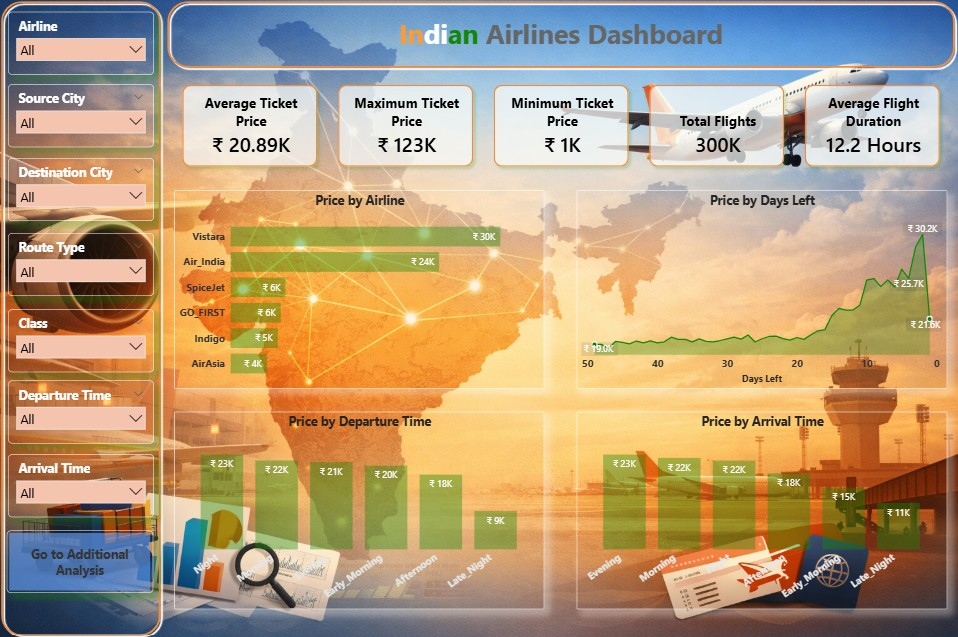

The page's visual inventory and layout, read from the dashboard file:
{"tool":"powerbi","page":{"name":"Dashboard","canvas":[1536,1038],"ordinal":0},"visuals":[{"type":"shape","box":[265.3,0,1270.1,116.7],"z":0},{"type":"textbox","title":"Indian Airlines Dashboard","box":[341.4,21.2,1118,72.5],"z":1000},{"type":"cardVisual","fields":{"Data":["All Measures.Average Price","All Measures.Maximum Price","All Measures.Minimum Price","All Measures.Total Flights","All Measures.Average Flight Duration Hours"]},"box":[265.3,109.7,1270.1,189.3],"z":2000},{"type":"barChart","title":"Price by Airline","fields":{"Category":["Clean_Dataset.airline"],"Y":["All Measures.Average Ticket Price"]},"box":[281.3,307.8,592,316.6],"z":3000},{"type":"shape","box":[0,0,265.3,1026],"z":4000},{"type":"slicer","fields":{"Values":["Clean_Dataset.Route Type"]},"box":[15.9,376.8,233.5,100.8],"z":5000},{"type":"slicer","fields":{"Values":["Clean_Dataset.airline"]},"box":[15.9,23,233.5,100.8],"z":6000},{"type":"slicer","fields":{"Values":["Clean_Dataset.class"]},"box":[15.9,497.1,233.5,100.8],"z":7000},{"type":"slicer","fields":{"Values":["Clean_Dataset.source_city"]},"box":[15.9,138,233.5,100.8],"z":8000},{"type":"slicer","fields":{"Values":["Clean_Dataset.destination_city"]},"box":[15.9,256.5,233.5,100.8],"z":9000},{"type":"slicer","fields":{"Values":["Clean_Dataset.departure_time"]},"box":[15.9,612,233.5,100.8],"z":10000},{"type":"slicer","fields":{"Values":["Clean_Dataset.arrival_time"]},"box":[15.9,730.6,233.5,100.8],"z":11000},{"type":"lineChart","title":"Price by Days Left","fields":{"Y":["All Measures.Average Ticket Price"],"Category":["Clean_Dataset.days_left"]},"box":[926.9,307.8,592.6,316.6],"z":12000},{"type":"clusteredColumnChart","title":"Price by Departure Time","fields":{"Category":["Clean_Dataset.departure_time"],"Y":["All Measures.Average Ticket Price"]},"box":[282,662,592,316],"z":13000},{"type":"clusteredColumnChart","title":"Price by Arrival Time","fields":{"Category":["Clean_Dataset.arrival_time"],"Y":["All Measures.Average Ticket Price"]},"box":[926.8,662.5,592.9,316.1],"z":14000},{"type":"actionButton","box":[14,852,234,100],"z":15000}]}

Visuals, with their boxes in screenshot pixels (x1, y1, x2, y2), scaled from the page's 1536x1038 canvas onto the 958x637 screenshot:
shape: box=[165, 0, 957, 72]
"Indian Airlines Dashboard" textbox: box=[213, 13, 910, 58]
cardVisual - All Measures.Average Price x All Measures.Maximum Price: box=[165, 67, 957, 183]
"Price by Airline" barChart: box=[175, 189, 545, 383]
shape: box=[0, 0, 165, 630]
slicer - Clean_Dataset.Route Type: box=[10, 231, 156, 293]
slicer - Clean_Dataset.airline: box=[10, 14, 156, 76]
slicer - Clean_Dataset.class: box=[10, 305, 156, 367]
slicer - Clean_Dataset.source_city: box=[10, 85, 156, 147]
slicer - Clean_Dataset.destination_city: box=[10, 157, 156, 219]
slicer - Clean_Dataset.departure_time: box=[10, 376, 156, 437]
slicer - Clean_Dataset.arrival_time: box=[10, 448, 156, 510]
"Price by Days Left" lineChart: box=[578, 189, 948, 383]
"Price by Departure Time" clusteredColumnChart: box=[176, 406, 545, 600]
"Price by Arrival Time" clusteredColumnChart: box=[578, 407, 948, 601]
actionButton: box=[9, 523, 155, 584]
